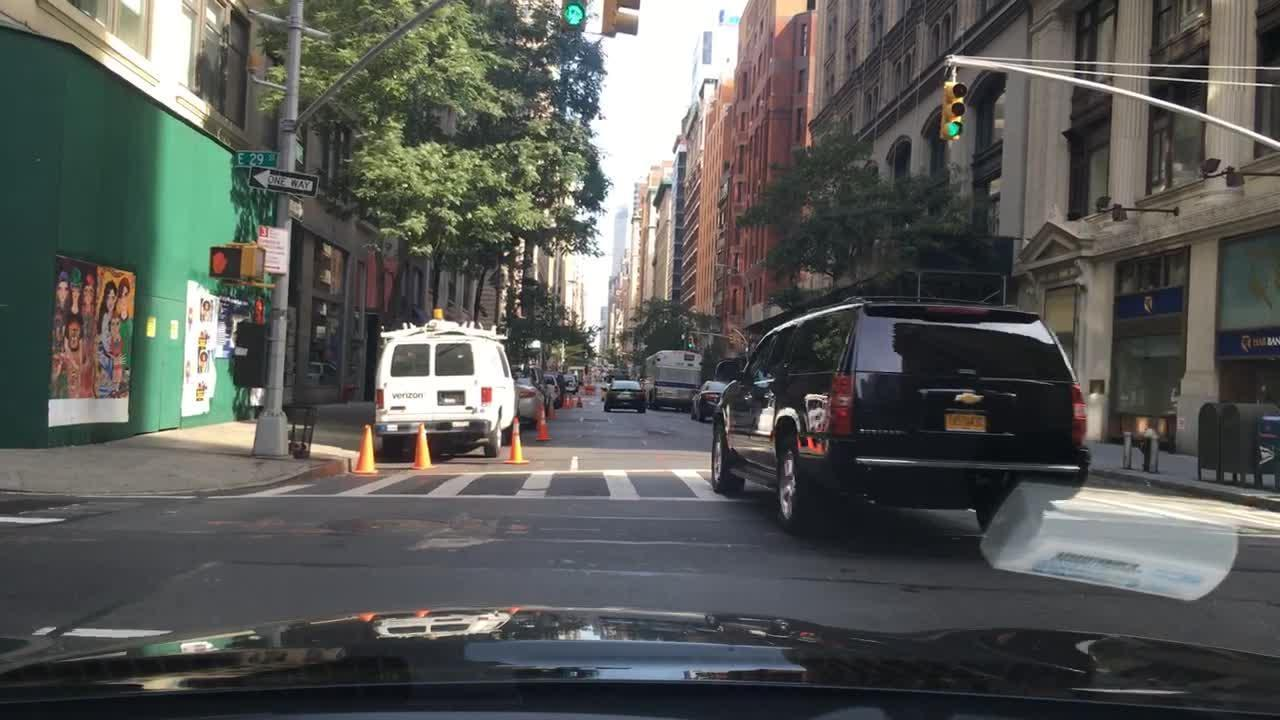chevrolet: (944, 384, 997, 416)
